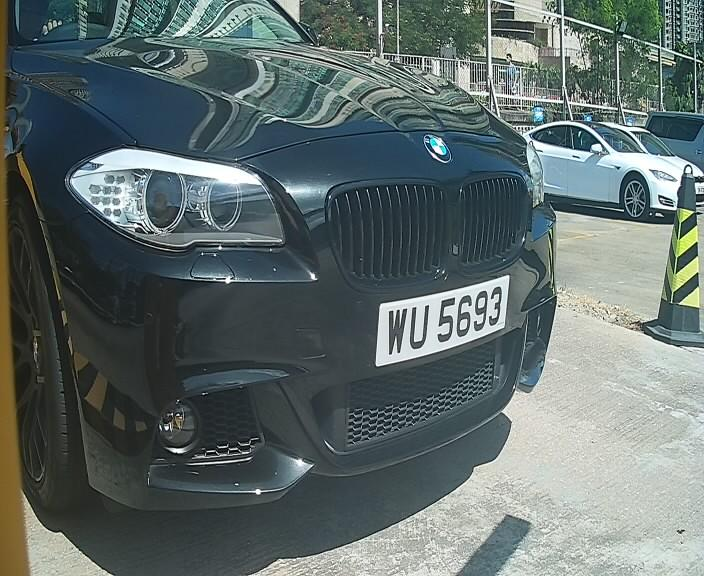Car: (23, 3, 595, 541)
License Plate: (375, 271, 513, 376)
